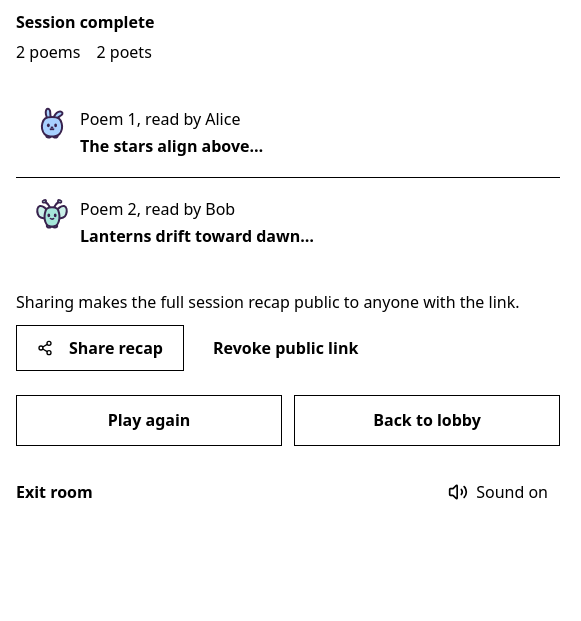
Test case: RevealPhase component › displays error when startNewCycle mutation fails
The image size is (581, 621).
Click the button "Back to lobby": (427, 421) [294,395,560,446]
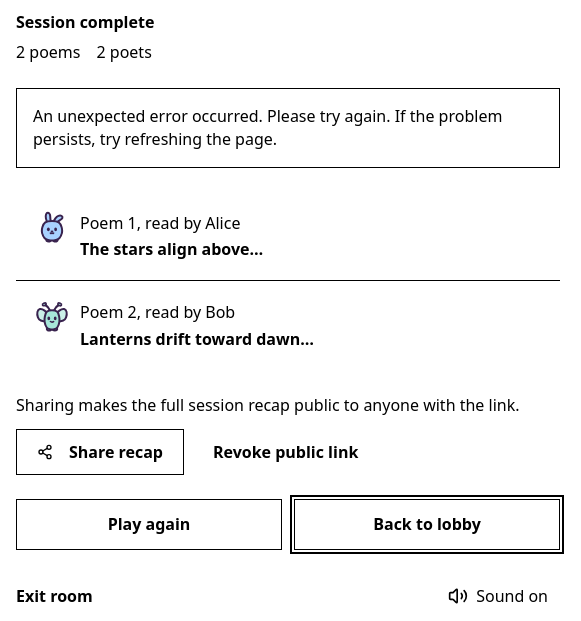
Now the text "unexpected error" is shown, box [33,105,502,150]
